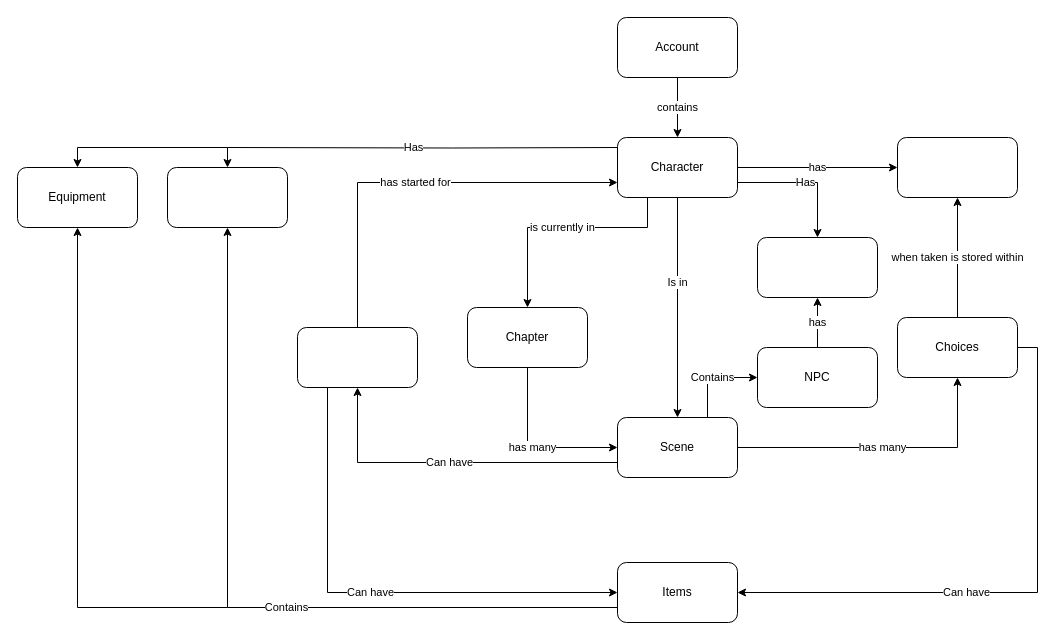
Image size: 1063x640. Some labels were removed from this diagram. The centre of each missing label's shape, as x and y in pixels:
"Character_lifepath" belongs at point (957, 167).
"Inventory" belongs at point (227, 197).
"Quest" belongs at point (357, 357).
"Race_details" belongs at point (817, 267).
